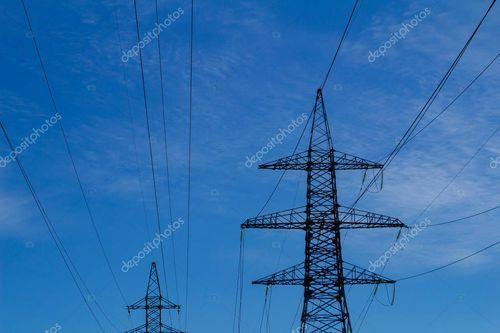power_tower: (227, 86, 405, 333), (118, 263, 190, 333)
